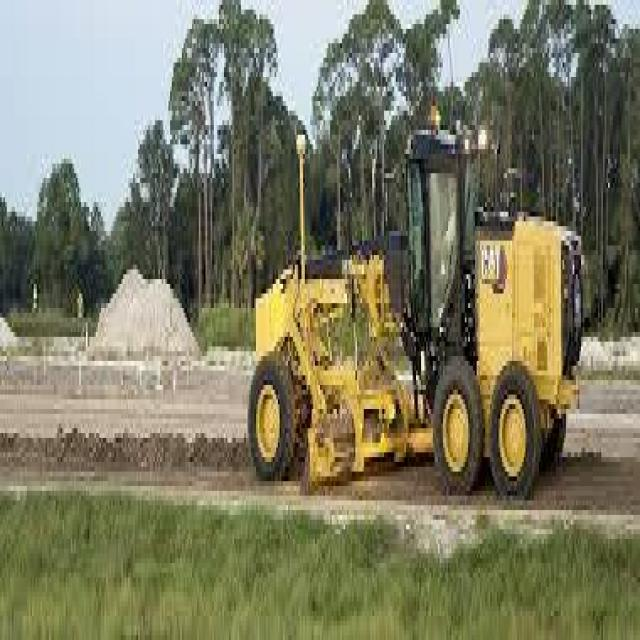Grader: (239, 120, 596, 524)
